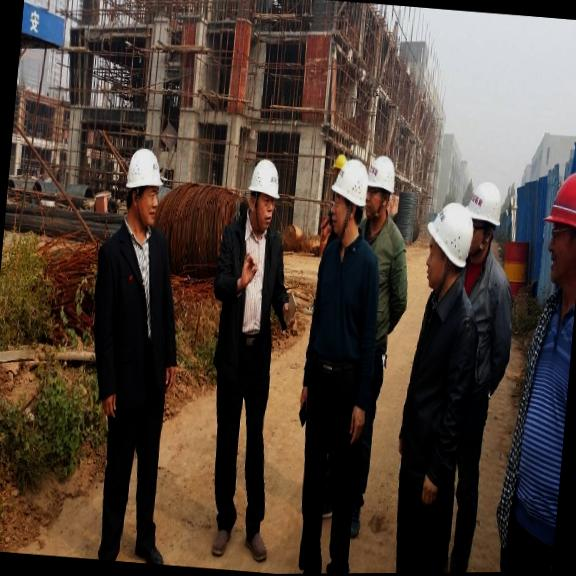no_safety_vest: (503, 282, 576, 541), (398, 277, 482, 481), (89, 218, 174, 408), (302, 233, 380, 396), (213, 224, 283, 354)
